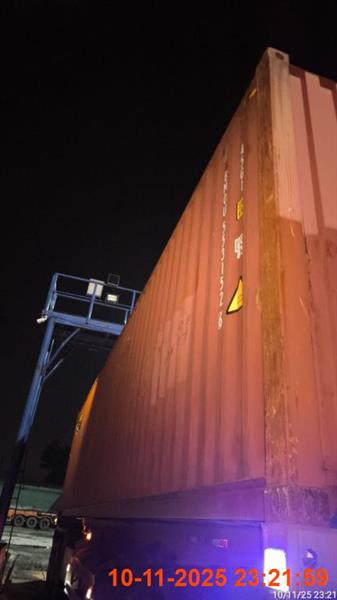broken: (44, 48, 336, 599)
